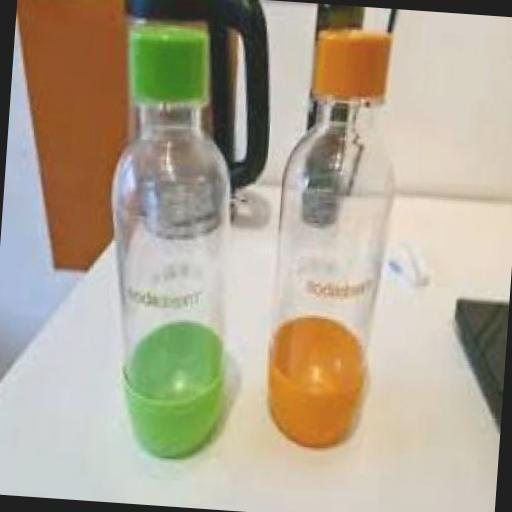plastic: (90, 11, 254, 457), (261, 20, 400, 449), (121, 14, 212, 110), (308, 24, 392, 110)
